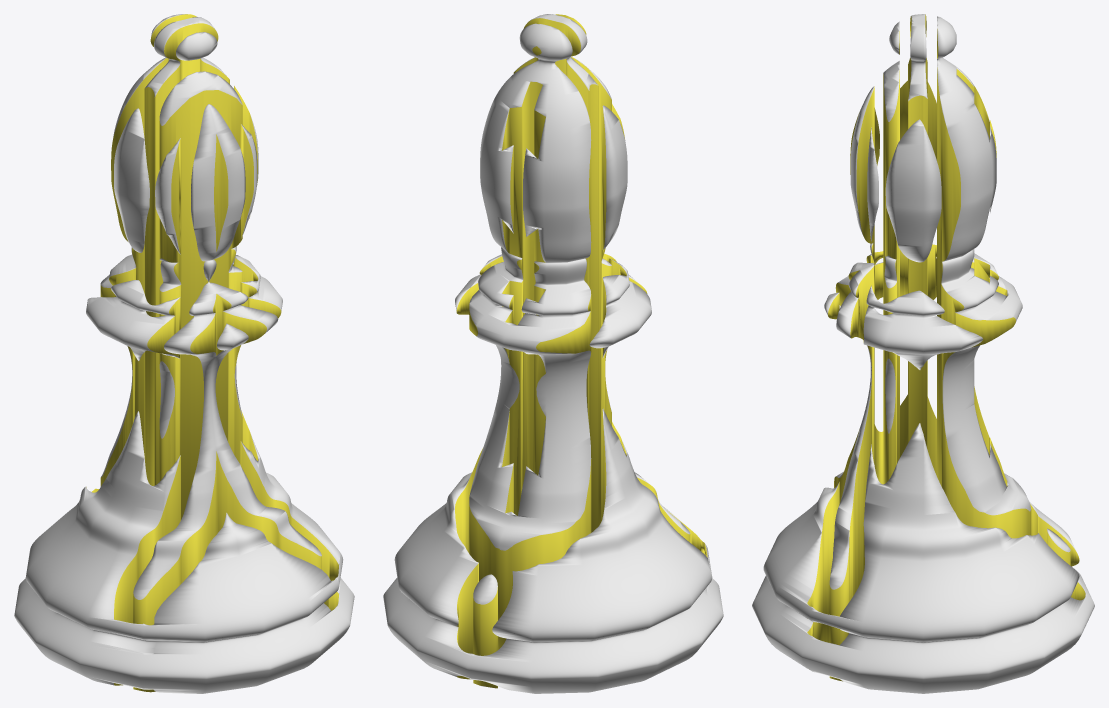
The model's file is WhiteBishop.fbx.
3 renders of one model, left to right at view 1: azimuth 30°, elevation 25°; view 2: azimuth 150°, elevation 25°; view 3: azimuth 270°, elevation 25°, orthographic.
Visible parts, largest first — view 1: Bishop; view 2: Bishop; view 3: Bishop.
Boxes of the visible parts, x1,y1,x2,y2 form: Bishop: [14, 14, 354, 693]; Bishop: [383, 14, 723, 693]; Bishop: [752, 14, 1094, 693].
Size of the model in its own units: 75 by 152 by 75.
